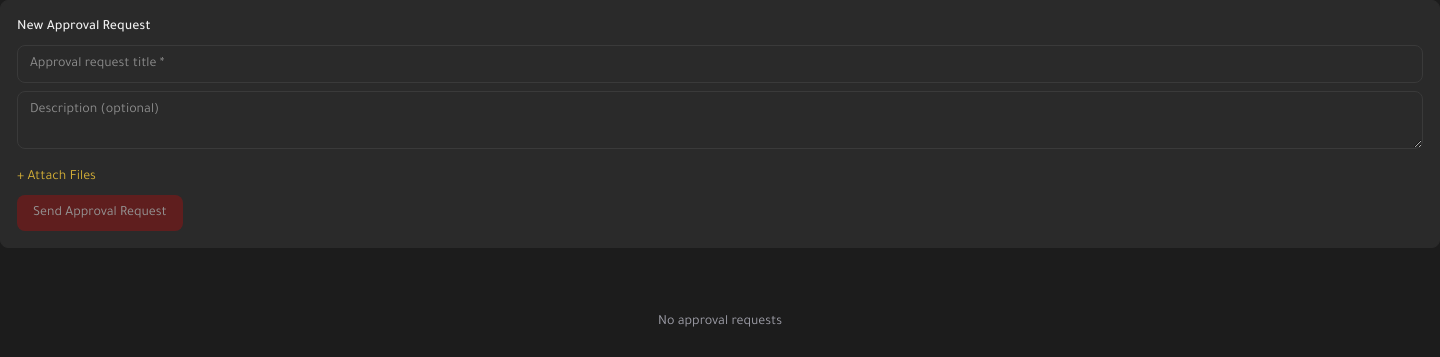
Test: ApprovalsTab (characterization) › sends a new approval request with a title and prepends it to the list
The image size is (1440, 357).
Expected: the heading "New Approval Request" is shown, 17,20 -> 151,34
Type "New Budget" into the field with placeholder "Approval request title *" at (720, 64), box 17,45 -> 1423,83
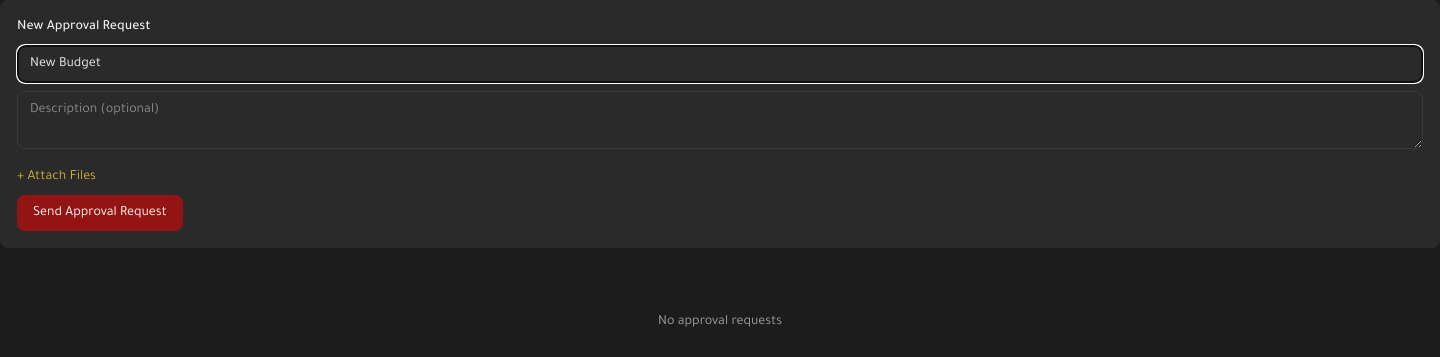
Click the button "Send Approval Request" at (100, 213), box 17,195 -> 183,231
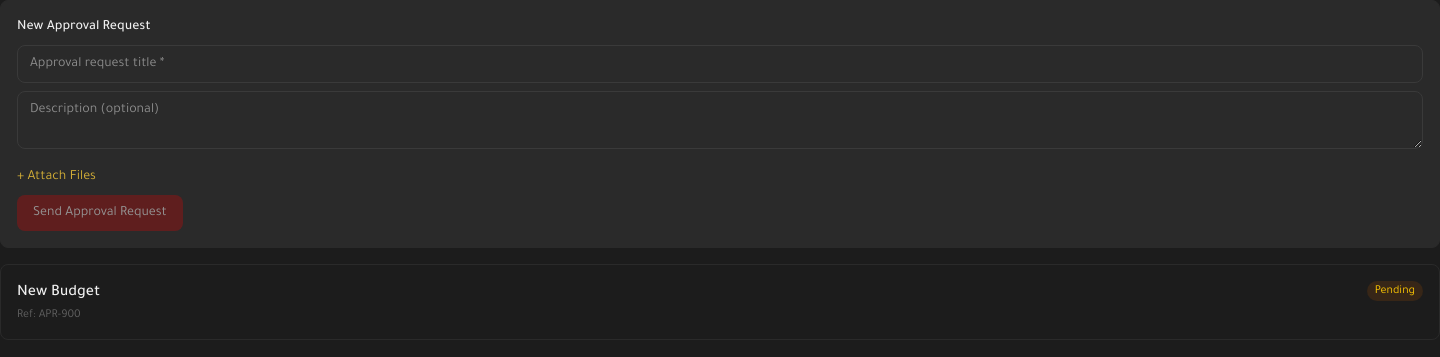
Now the heading "New Budget" is shown, box 17,281 -> 100,305
Now the field with placeholder "Approval request title *" is empty, box 17,45 -> 1423,83
